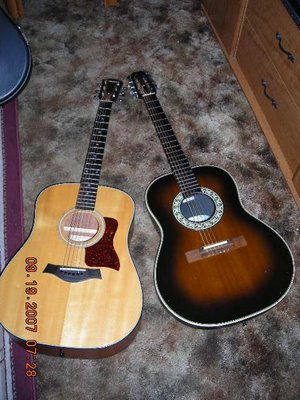guitar: (127, 68, 296, 328), (1, 77, 144, 361)
